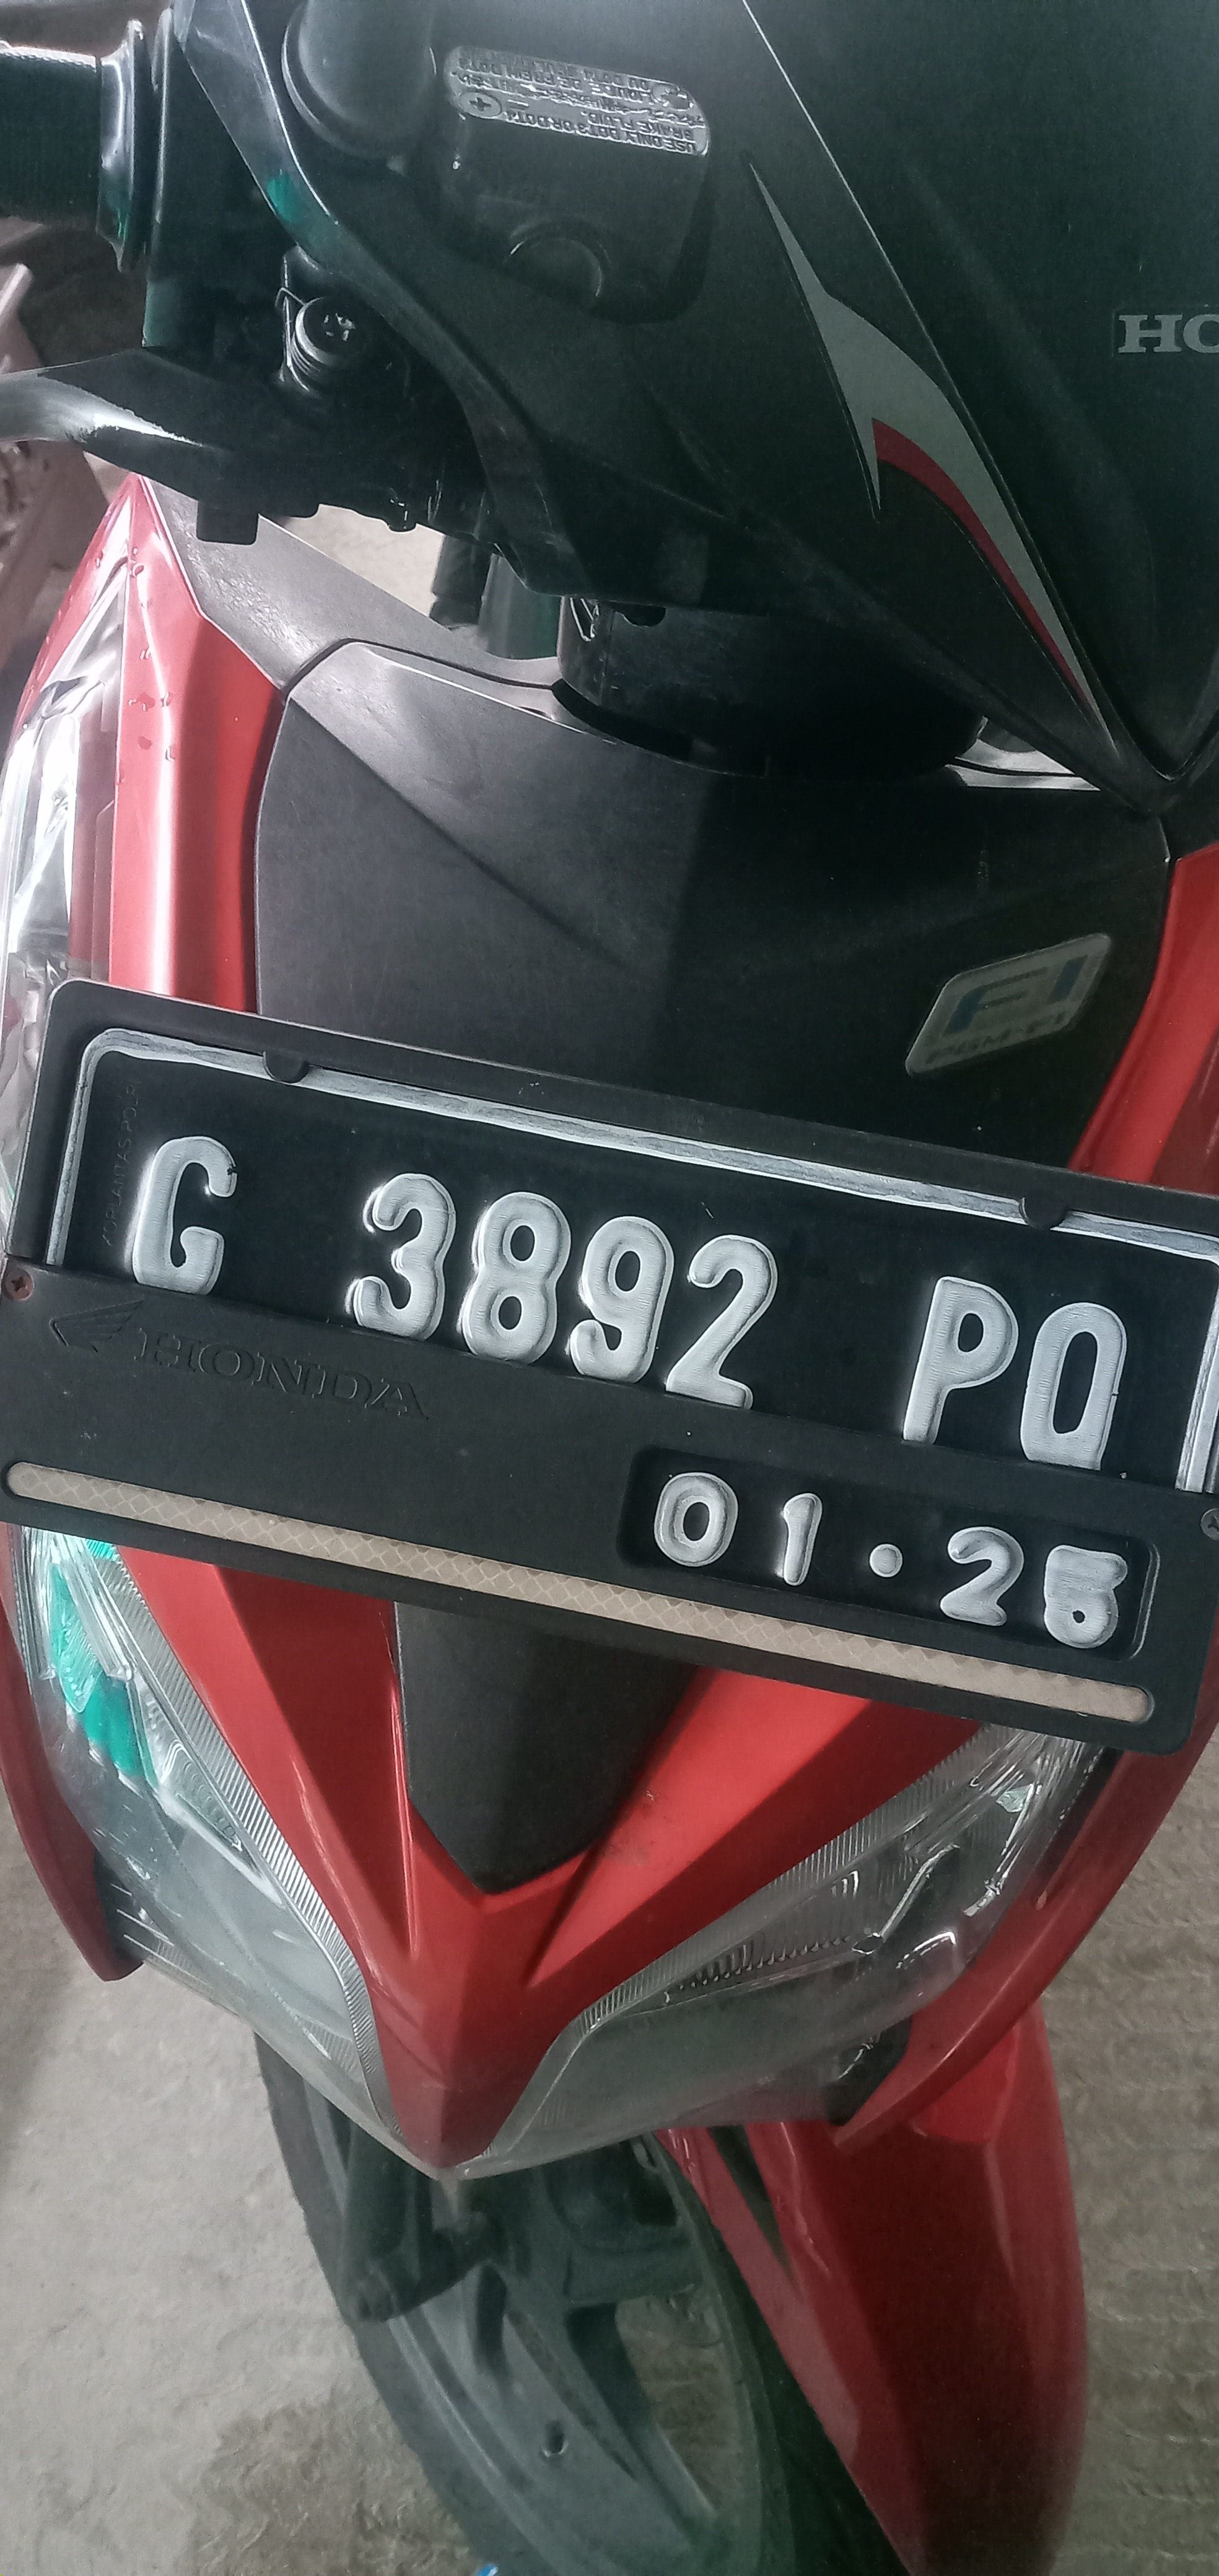plat_nomor: (4, 868, 1219, 1831)
